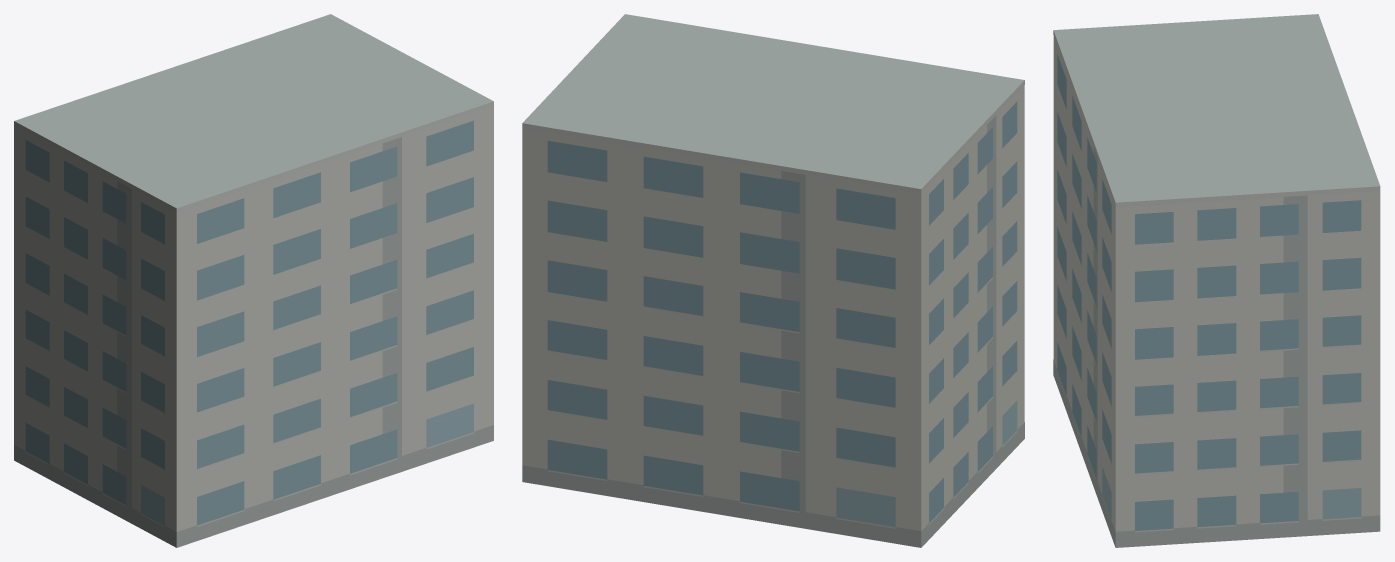
The model's file is survey-upis-32705433.glb.
3 views of the same model, side by side, from view 1: azimuth 30°, elevation 25°; view 2: azimuth 150°, elevation 25°; view 3: azimuth 270°, elevation 25° (orthographic). The views are drawn at different scales.
Visible parts, largest first — view 1: survey-upis-32705433.tmp; view 2: survey-upis-32705433.tmp; view 3: survey-upis-32705433.tmp.
Boxes of the visible parts, box(x1,y1,x2,y2) form: survey-upis-32705433.tmp: box(14, 14, 493, 547); survey-upis-32705433.tmp: box(522, 14, 1024, 547); survey-upis-32705433.tmp: box(1053, 14, 1380, 547).
Size of the model in its own units: 21.33 by 18.2 by 15.63.
